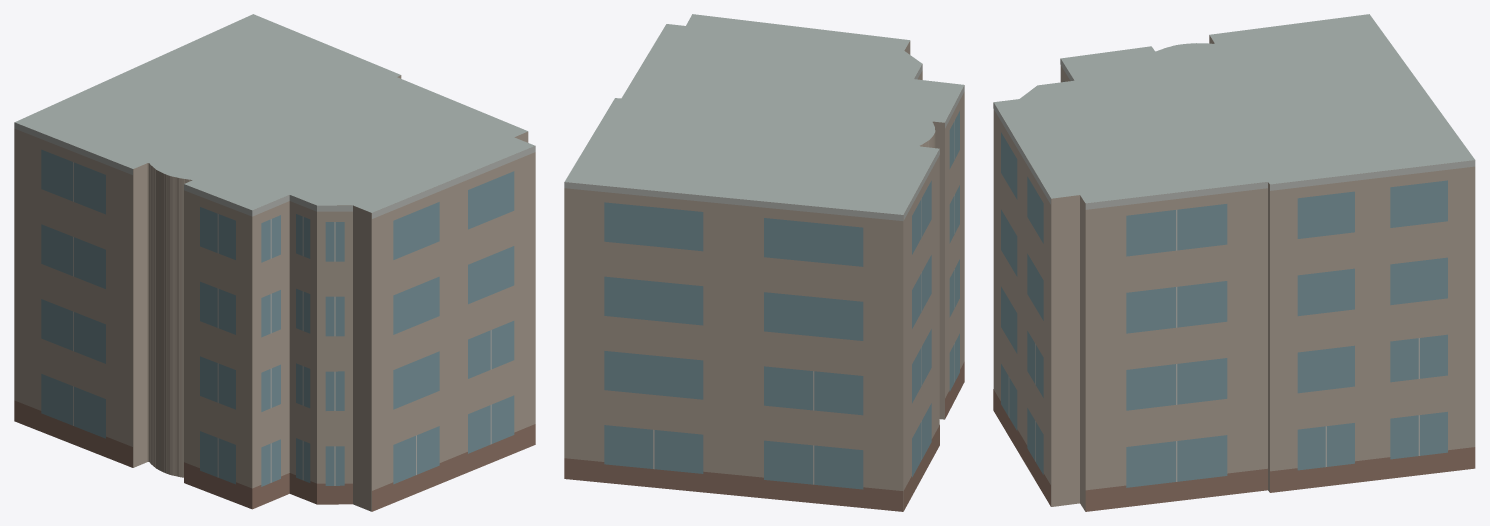
File: survey-upis-32954686.glb
3 renders of one model, left to right at view 1: azimuth 30°, elevation 25°; view 2: azimuth 150°, elevation 25°; view 3: azimuth 270°, elevation 25°, orthographic. The views are drawn at different scales.
Parts seen in each view (by area): view 1: survey-upis-32954686.tmp; view 2: survey-upis-32954686.tmp; view 3: survey-upis-32954686.tmp.
Boxes of the visible parts, x1,y1,x2,y2 form: survey-upis-32954686.tmp: (14, 14, 535, 511); survey-upis-32954686.tmp: (564, 14, 964, 511); survey-upis-32954686.tmp: (993, 14, 1475, 511).
Size of the model in its own units: 15.42 by 11.7 by 16.58.
